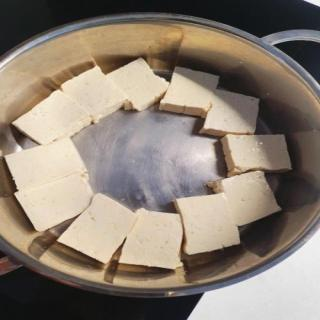Tahu: (4, 58, 292, 270)
